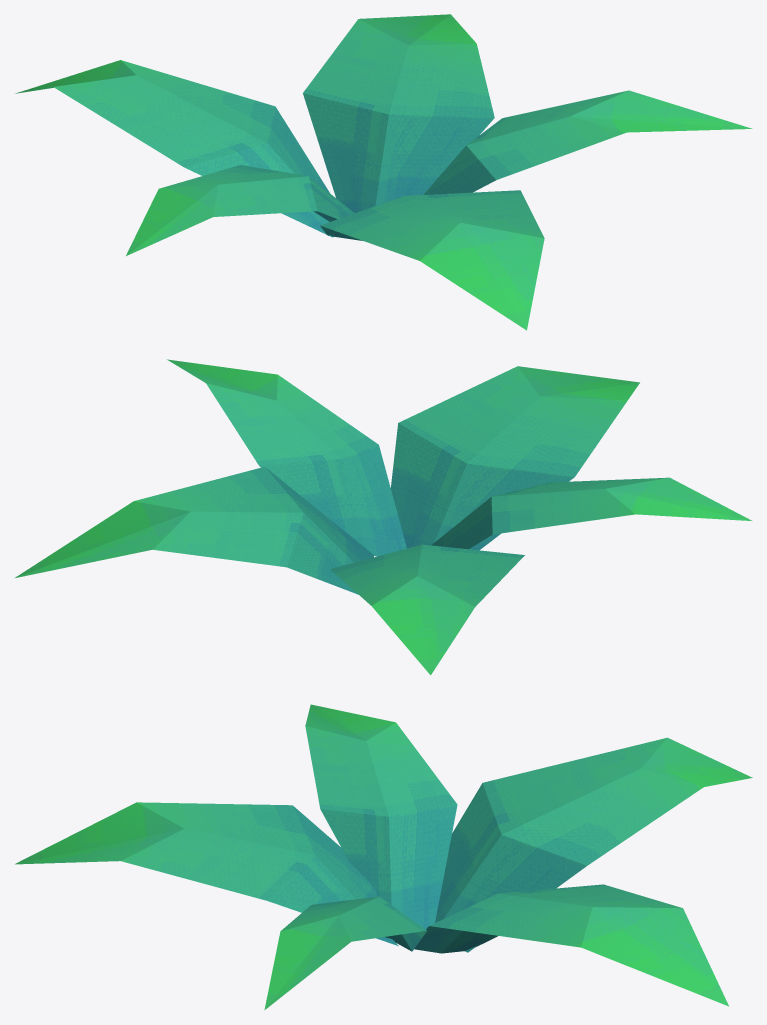
The model's file is WildPlant.fbx.
The picture shows the model from 3 angles, top to bottom: view 1: azimuth 30°, elevation 25°; view 2: azimuth 150°, elevation 25°; view 3: azimuth 270°, elevation 25°; orthographic projection. The views are drawn at different scales.
Visible parts, largest first — view 1: PlanterShort.015; view 2: PlanterShort.015; view 3: PlanterShort.015.
Boxes of the visible parts, x1,y1,x2,y2 form: PlanterShort.015: [15, 14, 752, 330]; PlanterShort.015: [14, 359, 751, 675]; PlanterShort.015: [15, 704, 752, 1010].
Size of the model in its own units: 346 by 65.54 by 358.
